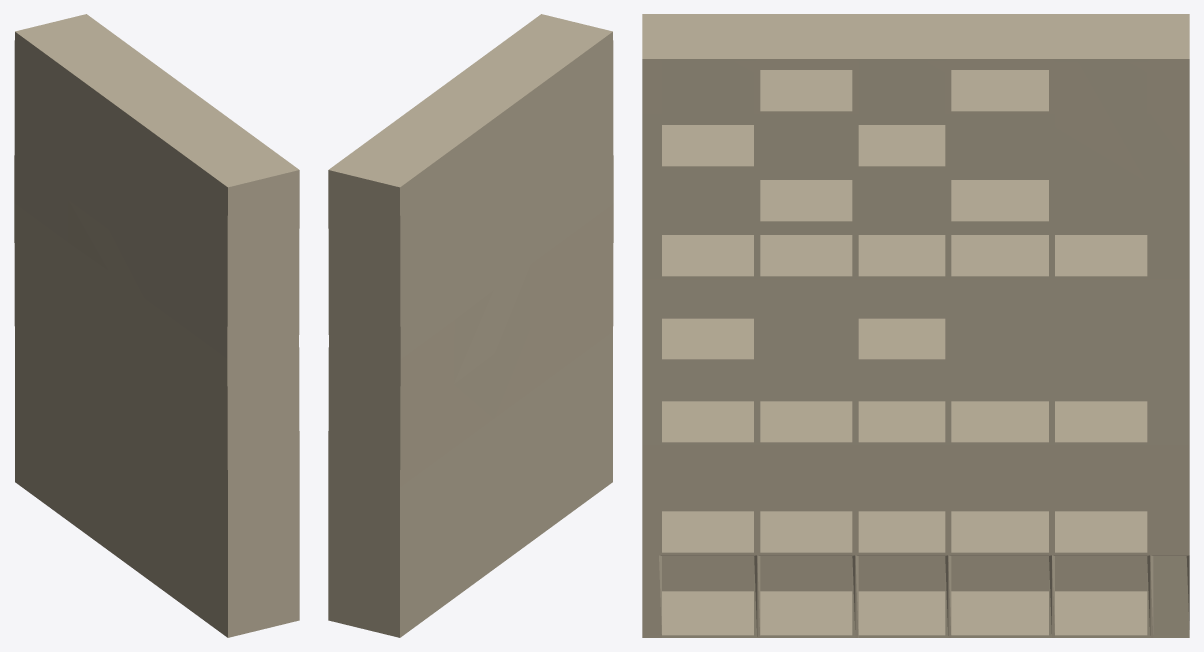
Rendered from cabinet.obj.
3 views of the same model, side by side, from view 1: azimuth 30°, elevation 25°; view 2: azimuth 150°, elevation 25°; view 3: azimuth 270°, elevation 25° (orthographic). The views are drawn at different scales.
Visible parts, largest first — view 1: object_1; view 2: object_1; view 3: object_1.
Boxes of the visible parts, box(x1,y1,x2,y2) form: object_1: box(14, 14, 299, 637); object_1: box(328, 14, 613, 637); object_1: box(642, 14, 1189, 637).
Bounding box in the file's own units: 353 × 2100 × 1800.
